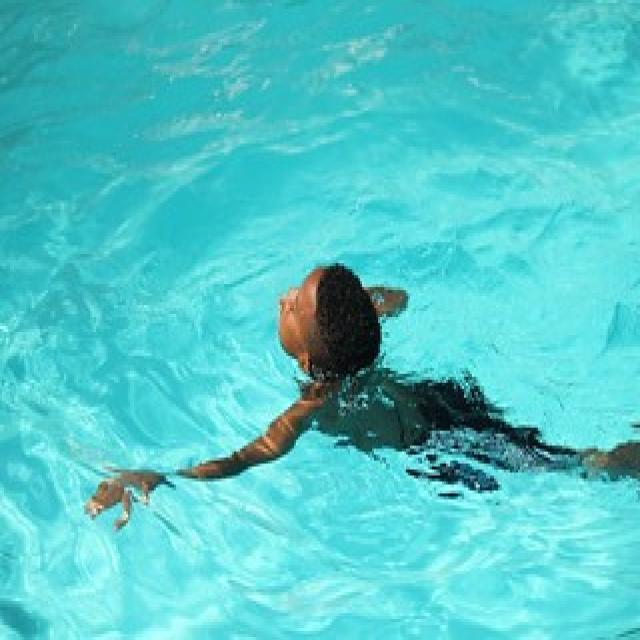Swimming: (91, 263, 640, 525)
